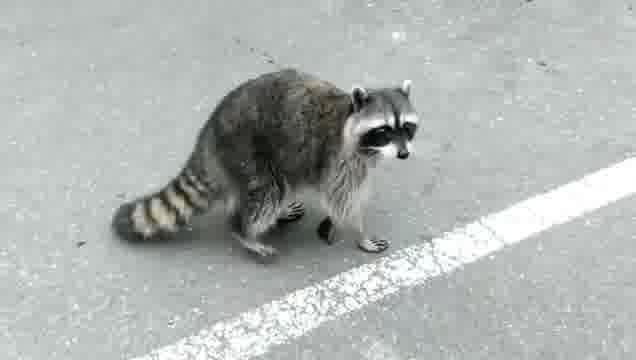raccoon: (117, 68, 422, 262)
